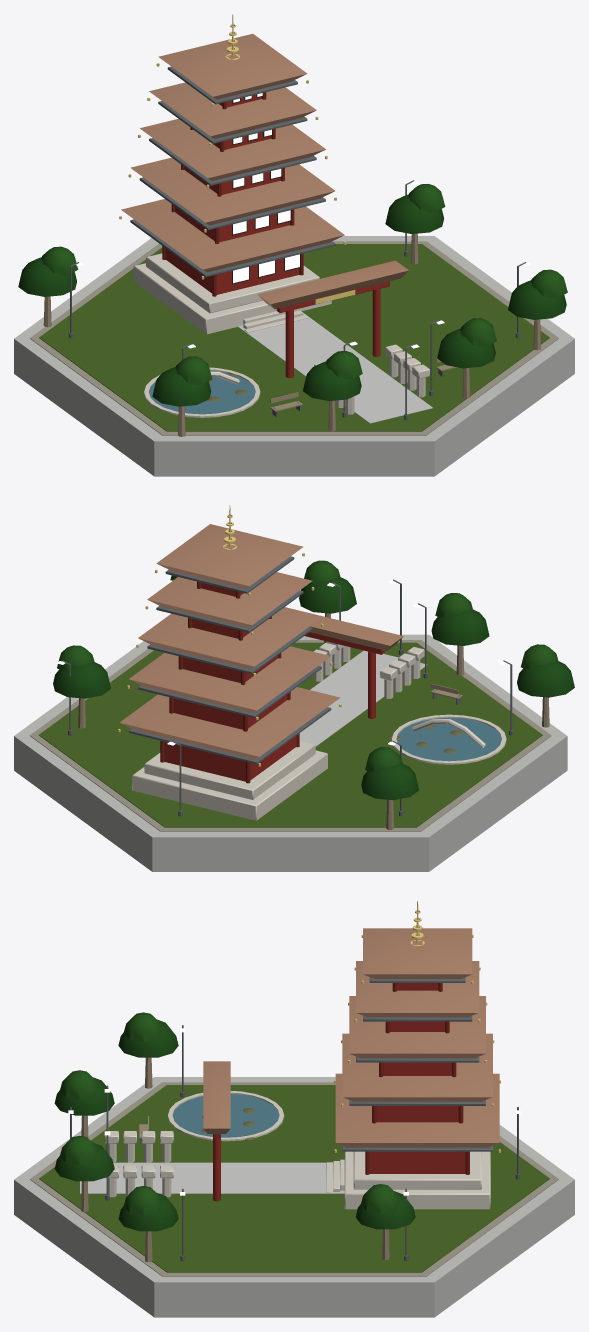
File: worship_pagoda.glb
3 renders of one model, top to bottom at view 1: azimuth 30°, elevation 25°; view 2: azimuth 150°, elevation 25°; view 3: azimuth 270°, elevation 25°, orthographic.
Parts seen in each view (by area): view 1: turf, roof_tile, wall_concrete, leaf, pavers, stone, paint, steel_dark, wood, glow_warm, glass, gold; view 2: turf, roof_tile, wall_concrete, leaf, stone, pavers, paint, steel_dark, glass, wood; view 3: turf, roof_tile, wall_concrete, pavers, leaf, stone, paint, steel_dark, glass, wood.
Part boxes in pixels (left/top/right/bottom): turf: left=39, top=244, right=549, bottom=431; roof_tile: left=121, top=33, right=408, bottom=309; wall_concrete: left=14, top=236, right=574, bottom=476; leaf: left=18, top=184, right=567, bottom=406; pavers: left=30, top=241, right=558, bottom=435; stone: left=133, top=253, right=429, bottom=417; paint: left=162, top=92, right=389, bottom=377; steel_dark: left=68, top=66, right=525, bottom=420; wood: left=43, top=233, right=540, bottom=436; glow_warm: left=76, top=93, right=531, bottom=348; glass: left=149, top=370, right=255, bottom=414; gold: left=119, top=14, right=355, bottom=304; turf: left=39, top=642, right=542, bottom=827; roof_tile: left=119, top=524, right=403, bottom=759; wall_concrete: left=14, top=634, right=567, bottom=871; leaf: left=53, top=560, right=574, bottom=800; stone: left=132, top=642, right=506, bottom=820; pavers: left=29, top=640, right=551, bottom=831; paint: left=160, top=581, right=384, bottom=783; steel_dark: left=62, top=556, right=513, bottom=816; glass: left=397, top=717, right=501, bottom=761; wood: left=78, top=613, right=549, bottom=829; turf: left=39, top=1085, right=549, bottom=1272; roof_tile: left=203, top=928, right=499, bottom=1147; wall_concrete: left=14, top=1077, right=574, bottom=1317; pavers: left=30, top=1082, right=558, bottom=1276; leaf: left=54, top=1012, right=415, bottom=1231; stone: left=105, top=1091, right=490, bottom=1209; paint: left=213, top=983, right=469, bottom=1201; steel_dark: left=70, top=977, right=520, bottom=1261; glass: left=172, top=1094, right=279, bottom=1137; wood: left=81, top=1057, right=389, bottom=1261.
Size of the model in its own units: 21.31 by 15.2 by 24.6.
